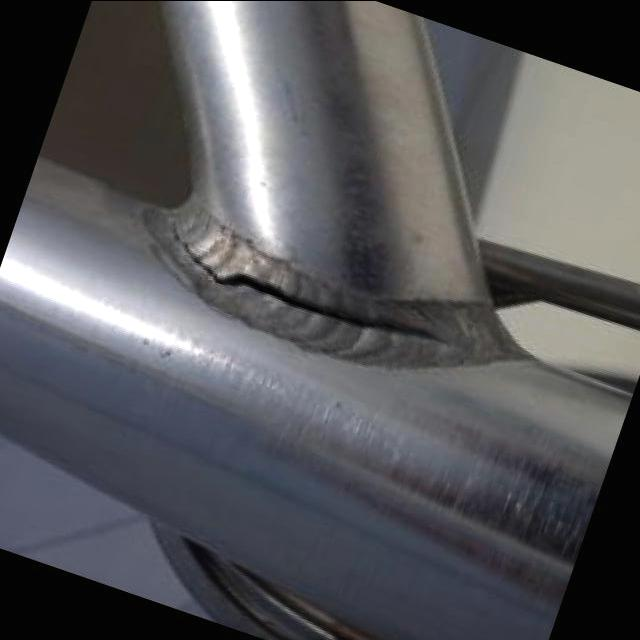defect: (165, 225, 450, 344)
